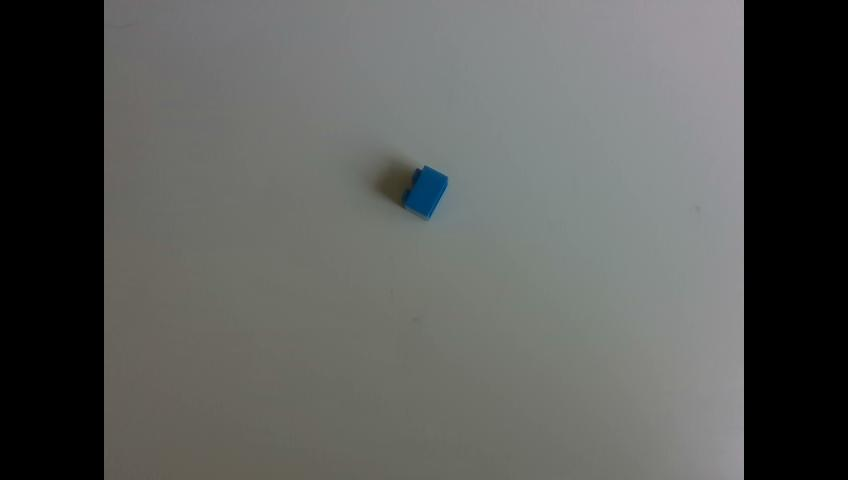2x2_blue: (405, 165, 448, 219)
